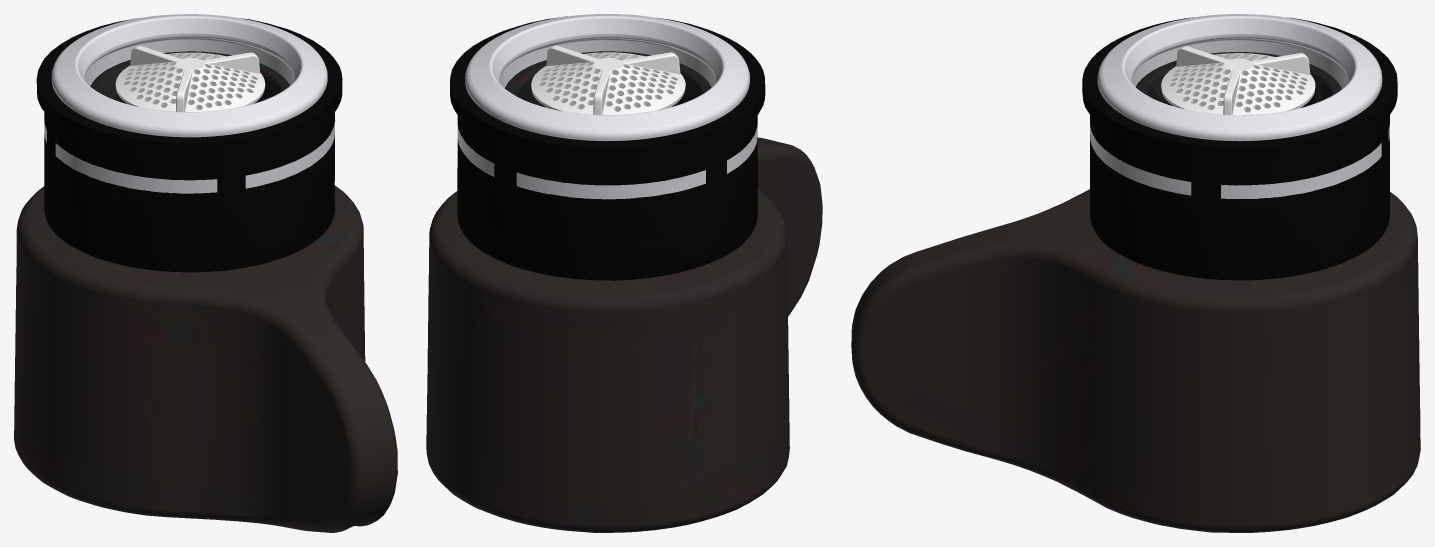
Rendered from abaecken_mist_nozzle_for_faucet.glb.
The picture shows the model from 3 angles, left to right: view 1: azimuth 30°, elevation 25°; view 2: azimuth 150°, elevation 25°; view 3: azimuth 270°, elevation 25°; orthographic projection. The views are drawn at different scales.
Parts seen in each view (by area): view 1: 1, 2; view 2: 1, 2; view 3: 1, 2.
Part boxes in pixels (<box>): 1: <box>14,18,397,532</box>; 2: <box>44,14,335,193</box>; 1: <box>426,16,822,532</box>; 2: <box>457,14,757,199</box>; 1: <box>851,17,1420,532</box>; 2: <box>1090,14,1389,198</box>.
Size of the model in its own units: 0.024 by 0.0298 by 0.0376.
Materials: 2 (2 with a texture image).
